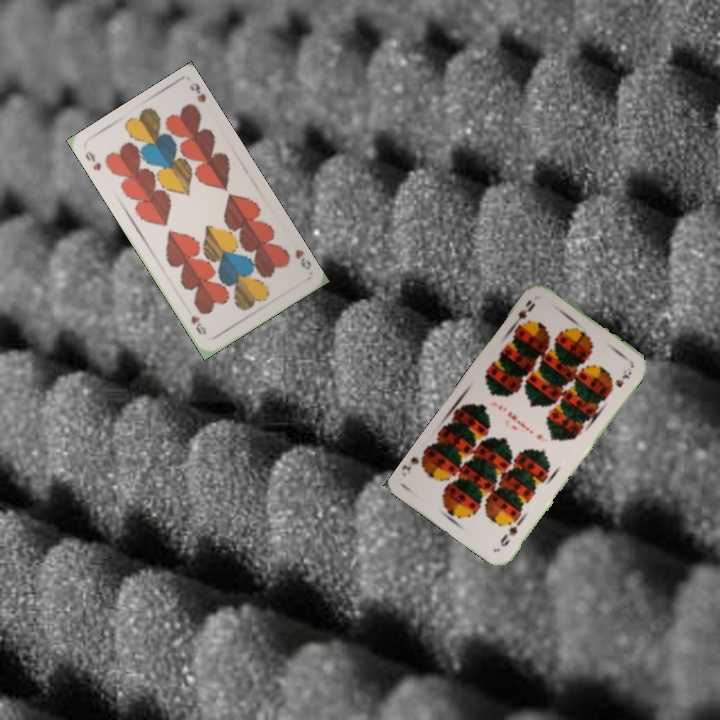H9: (290, 245, 314, 272), (81, 147, 104, 174)
S9: (509, 296, 538, 331), (496, 515, 524, 549)
